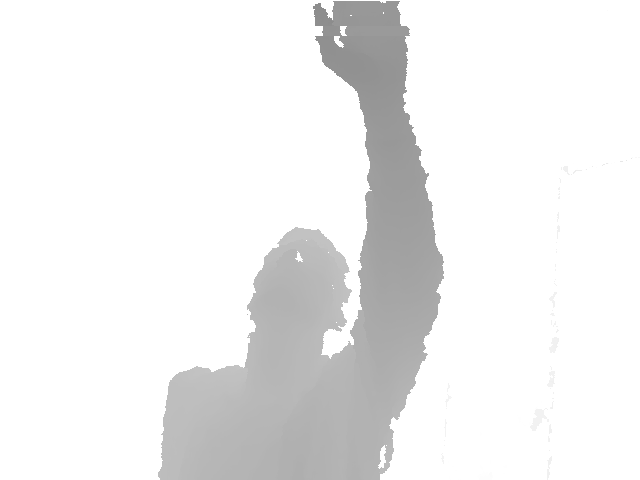hand: (312, 1, 411, 98)
head: (244, 226, 350, 351)
person: (155, 1, 445, 480)
